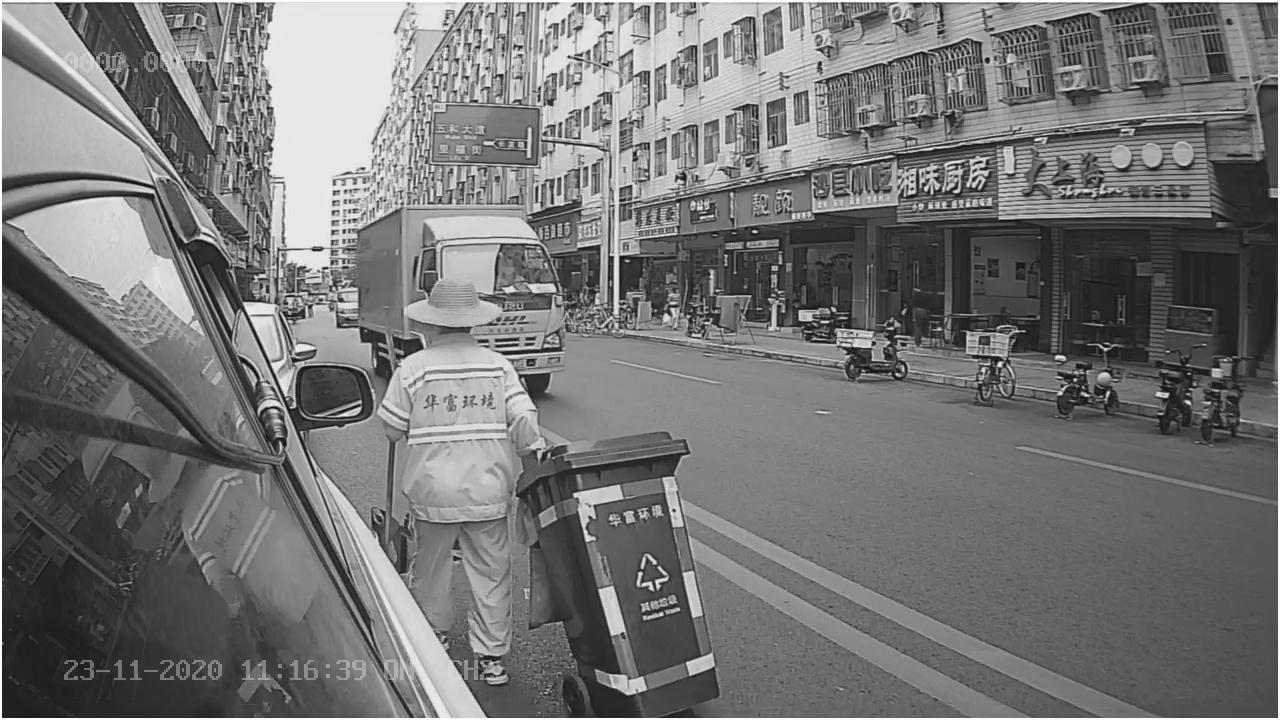person: (396, 273, 546, 460)
